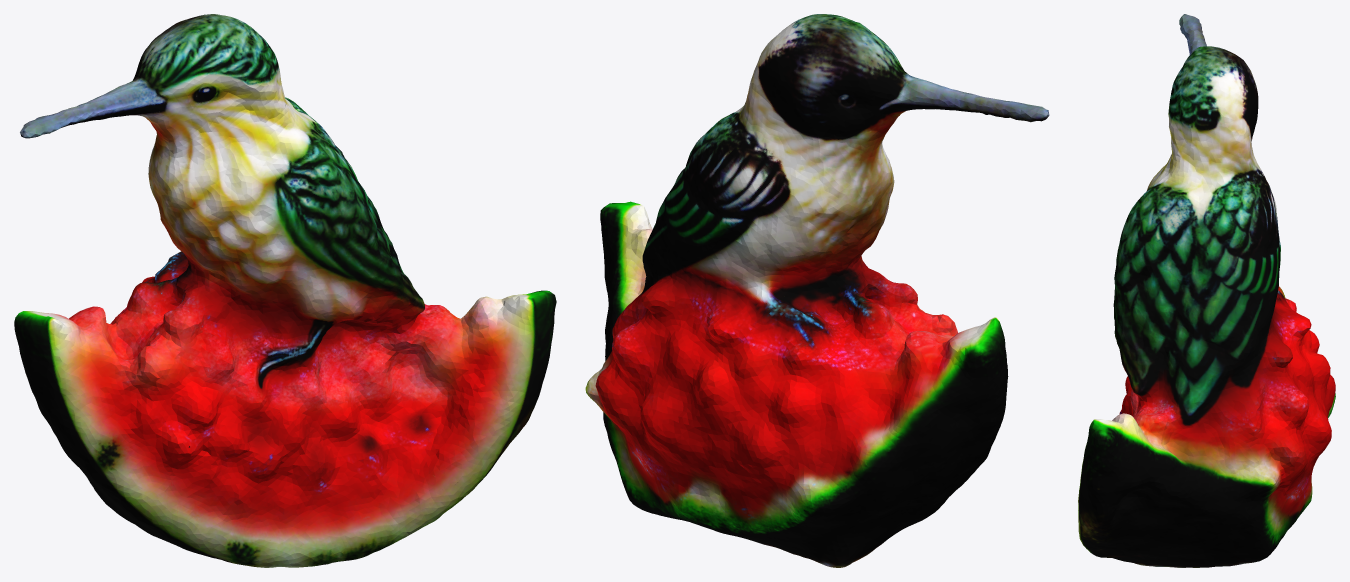
The model's file is birdonmelon.glb.
3 views of the same model, side by side, from view 1: azimuth 30°, elevation 25°; view 2: azimuth 150°, elevation 25°; view 3: azimuth 270°, elevation 25° (orthographic). The views are drawn at different scales.
Parts seen in each view (by area): view 1: mesh.obj; view 2: mesh.obj; view 3: mesh.obj.
Boxes of the visible parts, bbox=[...] form: mesh.obj: bbox=[14, 14, 556, 567]; mesh.obj: bbox=[585, 14, 1049, 567]; mesh.obj: bbox=[1078, 14, 1335, 567].
Bounding box in the file's own units: 0.8891 × 0.9131 × 0.4637.
Materials: 1 (1 with a texture image).
